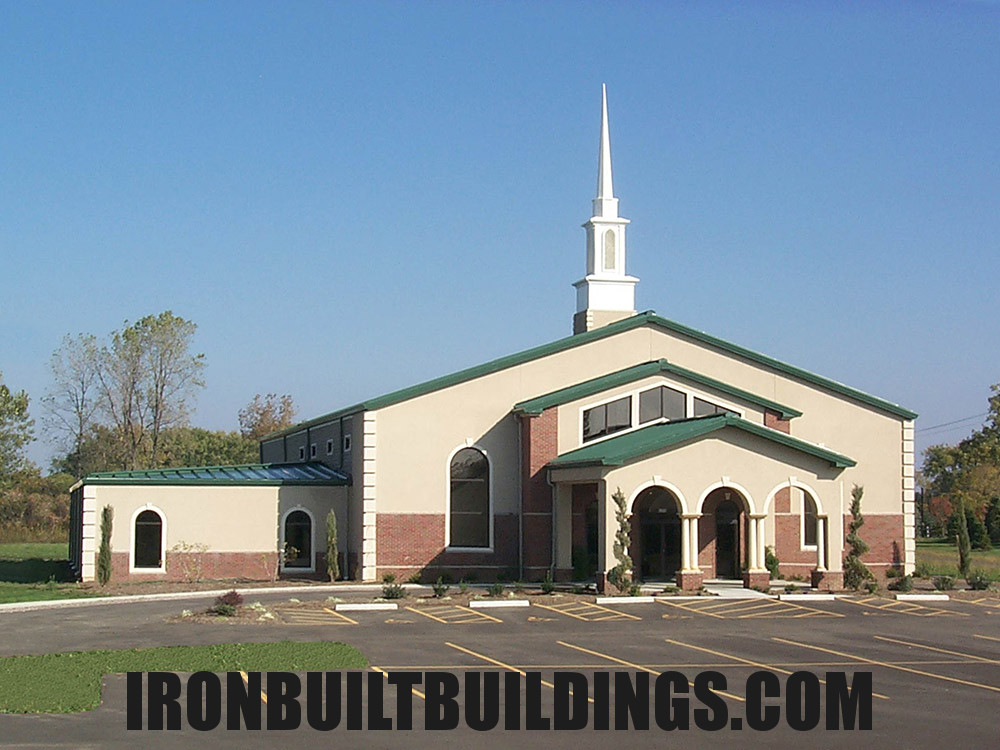Church: (88, 80, 927, 608)
